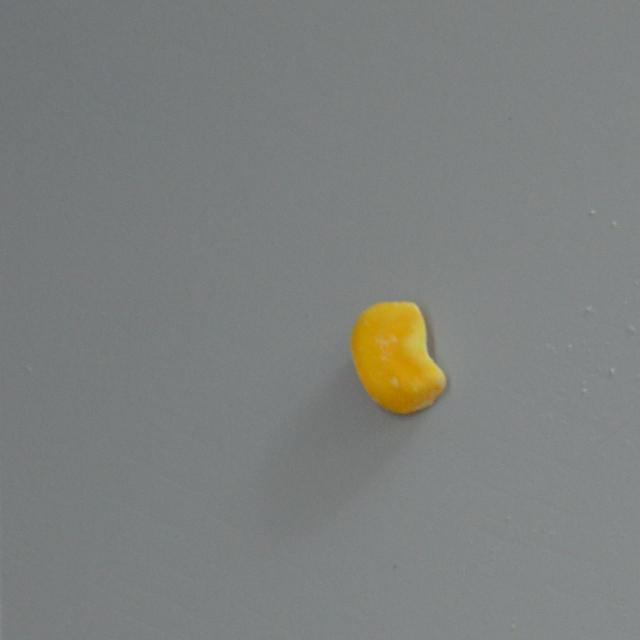pelicula: (348, 294, 449, 420)
